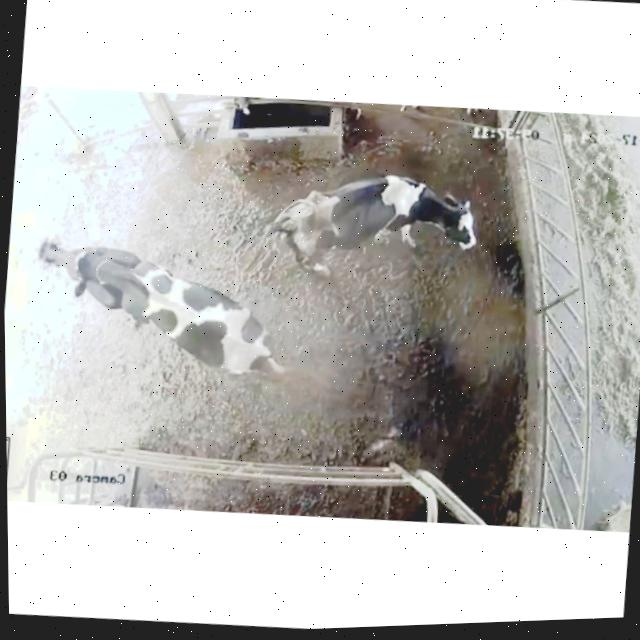ride: (47, 237, 295, 401)
stand: (241, 147, 501, 298), (17, 220, 139, 326)
